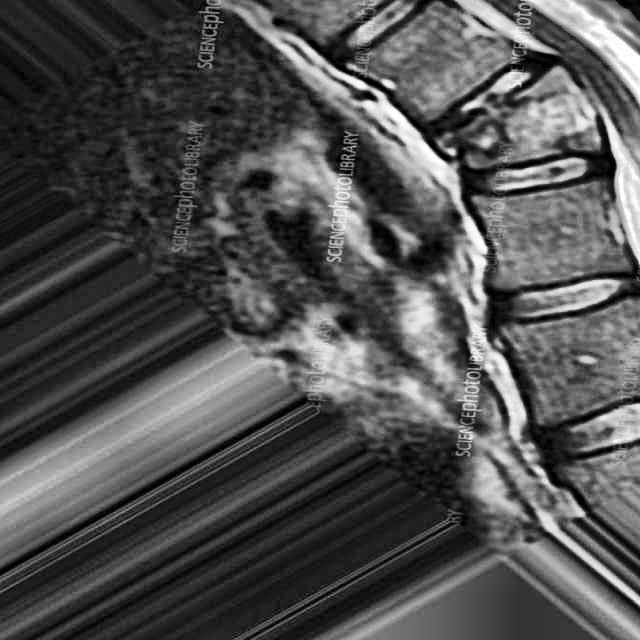Comminuted: (429, 46, 608, 194)
